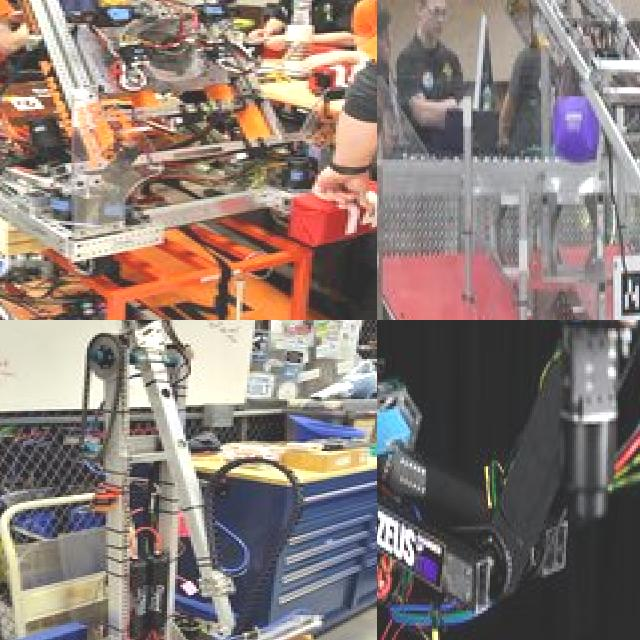FRC-Robots: (0, 320, 377, 640), (0, 0, 377, 285), (377, 320, 640, 640), (438, 0, 640, 320)
